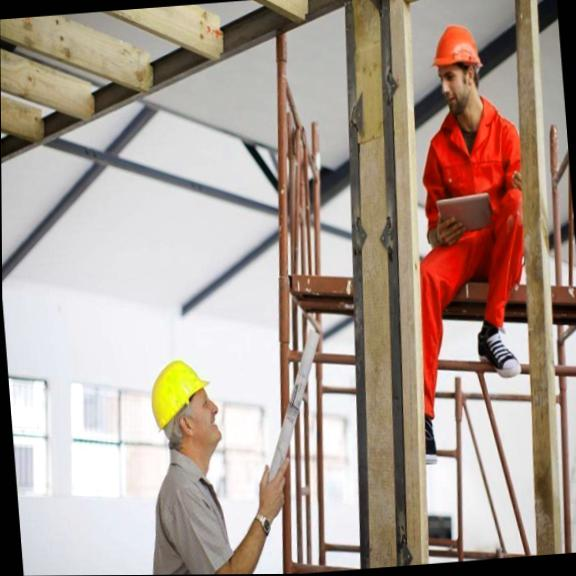no_safety_vest: (151, 492, 224, 575)
safety_vest: (423, 117, 531, 297)
